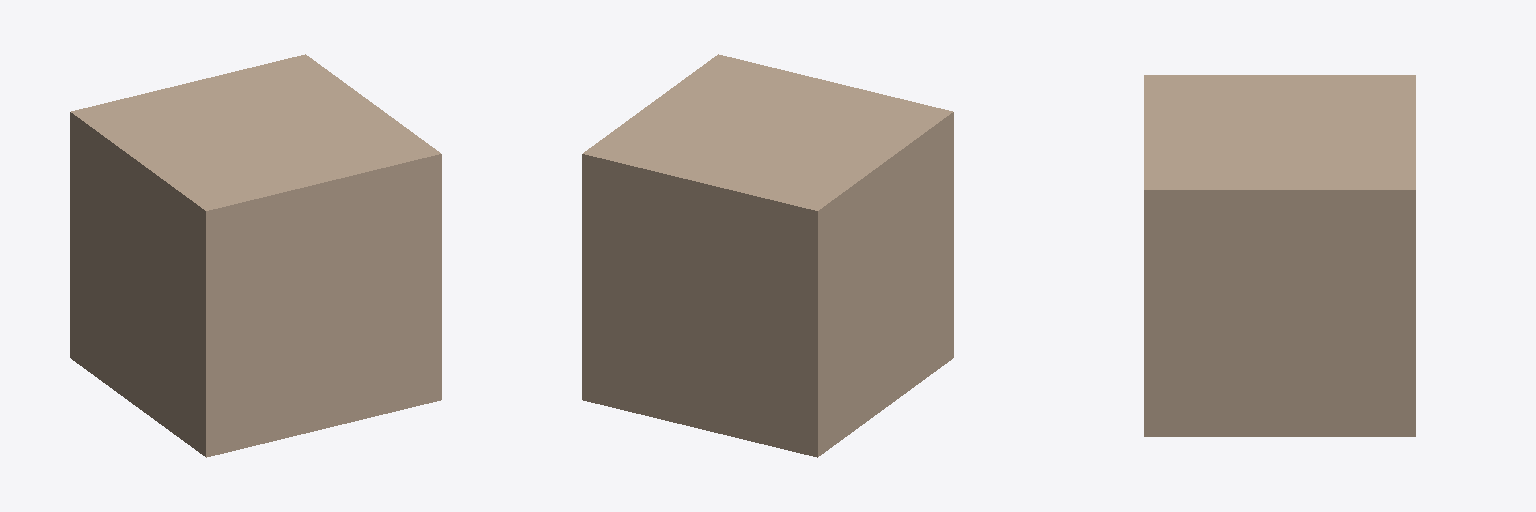
The picture shows the model from 3 angles: view 1: azimuth 30°, elevation 25°; view 2: azimuth 150°, elevation 25°; view 3: azimuth 270°, elevation 25°; orthographic projection.
Parts seen in each view (by area): view 1: Cube; view 2: Cube; view 3: Cube.
Boxes of the visible parts, x1,y1,x2,y2 form: Cube: [70, 54, 441, 457]; Cube: [582, 54, 953, 457]; Cube: [1144, 75, 1415, 436].
Bounding box in the file's own units: 1 × 1 × 1.
1 materials, 1 textured.